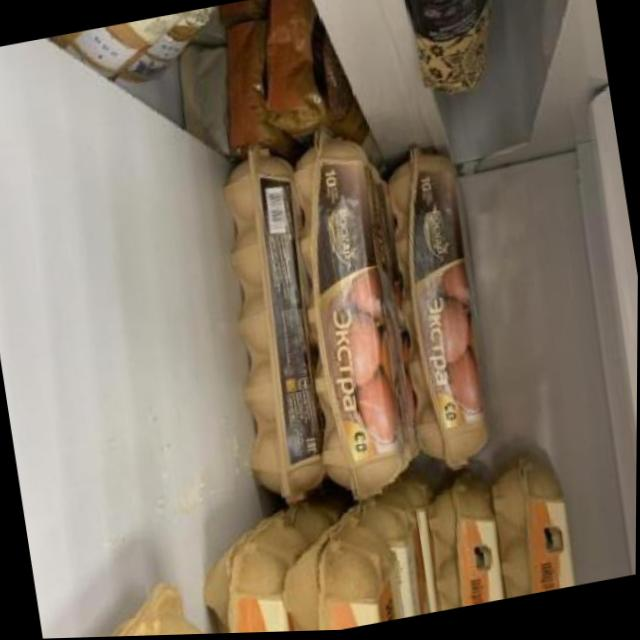Egg: (276, 123, 432, 512), (371, 136, 508, 478), (248, 0, 372, 151), (273, 512, 407, 634), (480, 447, 582, 603), (414, 469, 509, 615), (404, 0, 515, 104)
